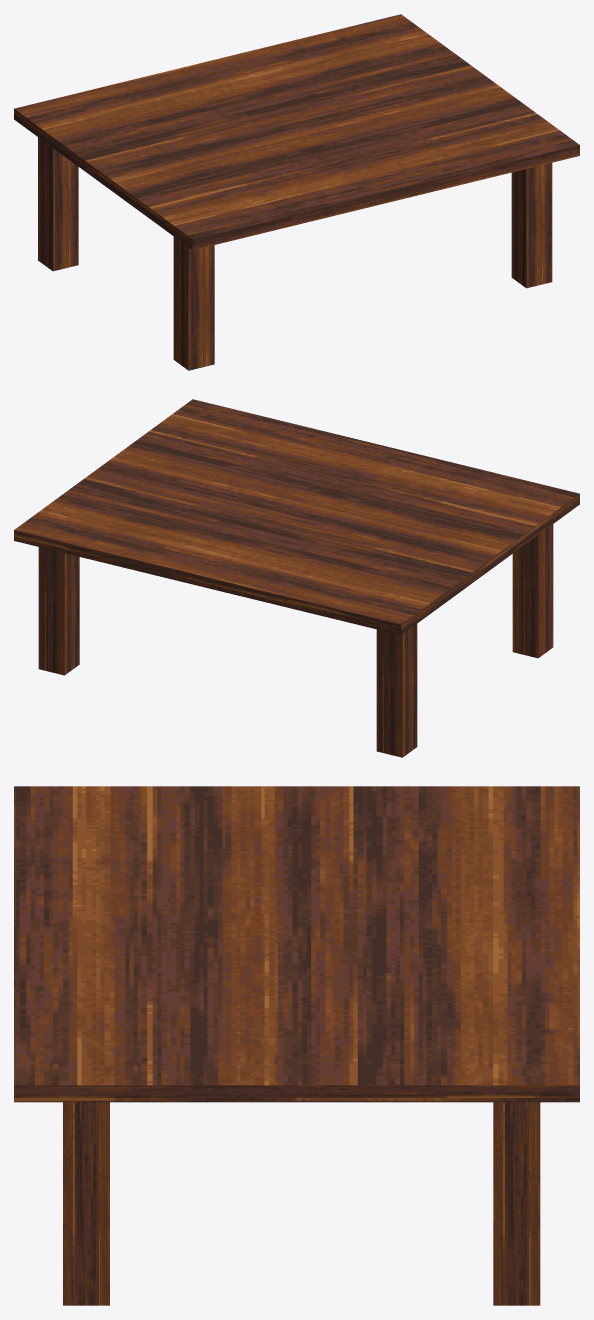
Rendered from Table_(4).fbx.
3 renders of one model, top to bottom at view 1: azimuth 30°, elevation 25°; view 2: azimuth 150°, elevation 25°; view 3: azimuth 270°, elevation 25°, orthographic. The views are drawn at different scales.
Visible parts, largest first — view 1: Cube, Cube.001, Cube.002, Cube.004; view 2: Cube, Cube.004, Cube.003, Cube.001; view 3: Cube, Cube.003, Cube.002.
Boxes of the visible parts, left/top/right/bottom form: Cube: left=14, top=14, right=579, bottom=250; Cube.001: left=173, top=236, right=214, bottom=370; Cube.002: left=511, top=163, right=552, bottom=288; Cube.004: left=38, top=137, right=78, bottom=271; Cube: left=14, top=399, right=579, bottom=635; Cube.004: left=376, top=624, right=417, bottom=757; Cube.003: left=38, top=547, right=79, bottom=675; Cube.001: left=512, top=524, right=553, bottom=658; Cube: left=14, top=786, right=579, bottom=1102; Cube.003: left=493, top=1102, right=540, bottom=1305; Cube.002: left=63, top=1102, right=109, bottom=1305.
Bounding box in the file's own units: 300 × 108 × 240.
5 materials, 5 textured.
